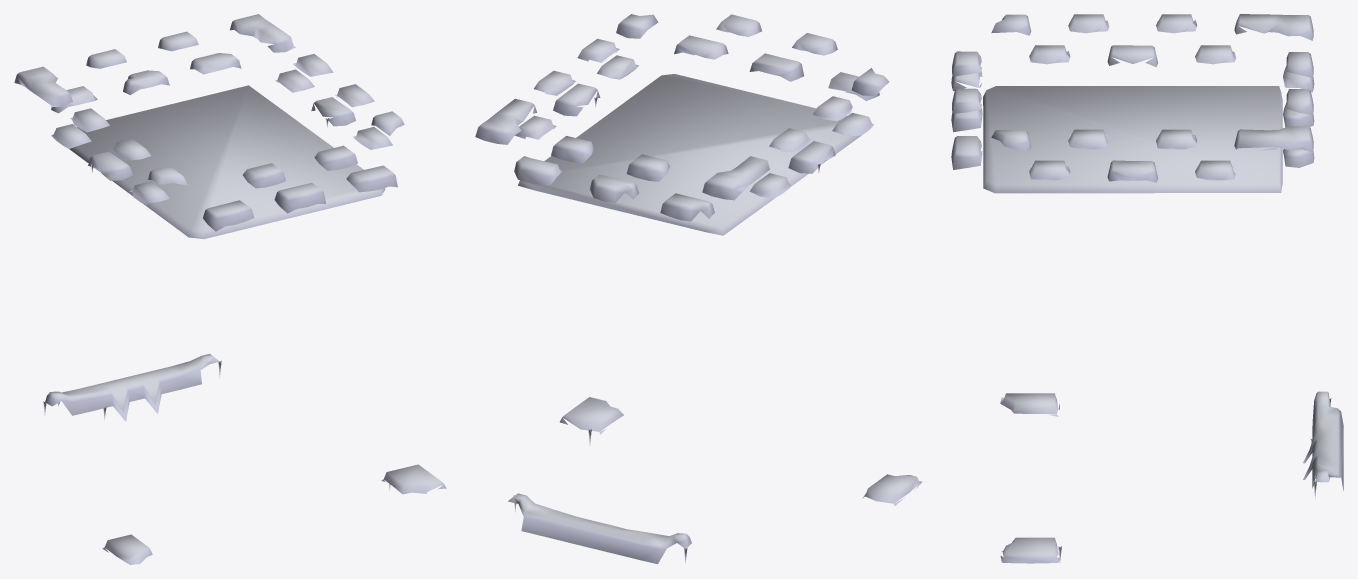
The model's file is gatehouse.snow.glb.
The picture shows the model from 3 angles, left to right: view 1: azimuth 30°, elevation 25°; view 2: azimuth 150°, elevation 25°; view 3: azimuth 270°, elevation 25°; orthographic projection. The views are drawn at different scales.
Visible parts, largest first — view 1: snow; view 2: snow; view 3: snow.
Part boxes in pixels (x1=…): snow: x1=14, y1=14, x2=446, y2=564; snow: x1=475, y1=14, x2=922, y2=564; snow: x1=951, y1=14, x2=1343, y2=563.
Size of the model in its own units: 4.02 by 4.75 by 4.02.
